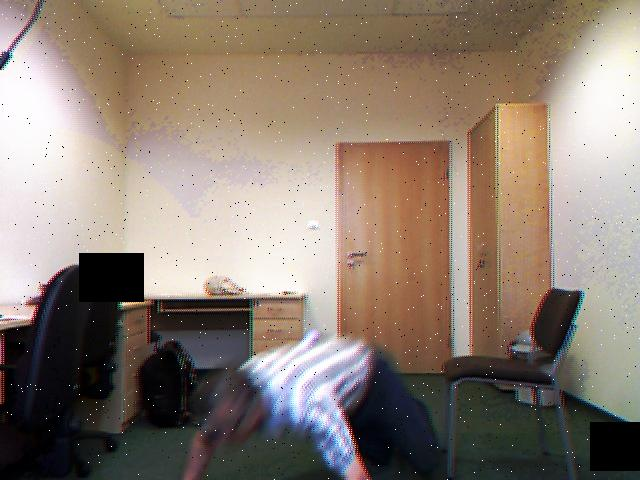fall: (176, 327, 451, 480)
